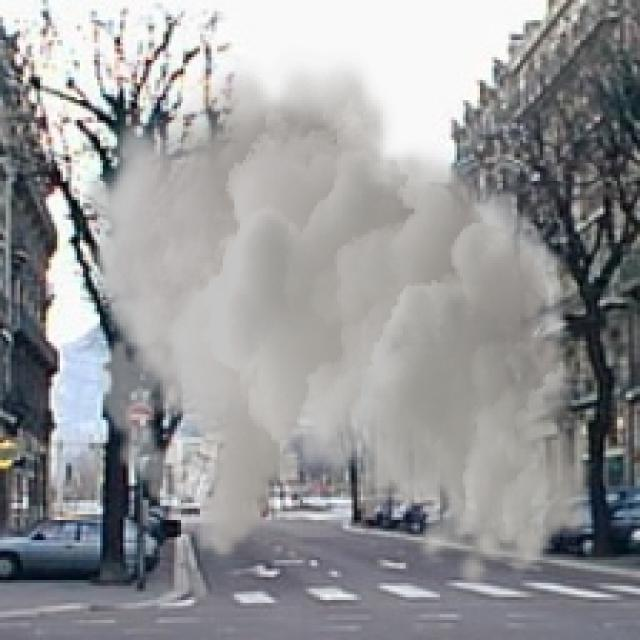smoke: (80, 46, 594, 594)
